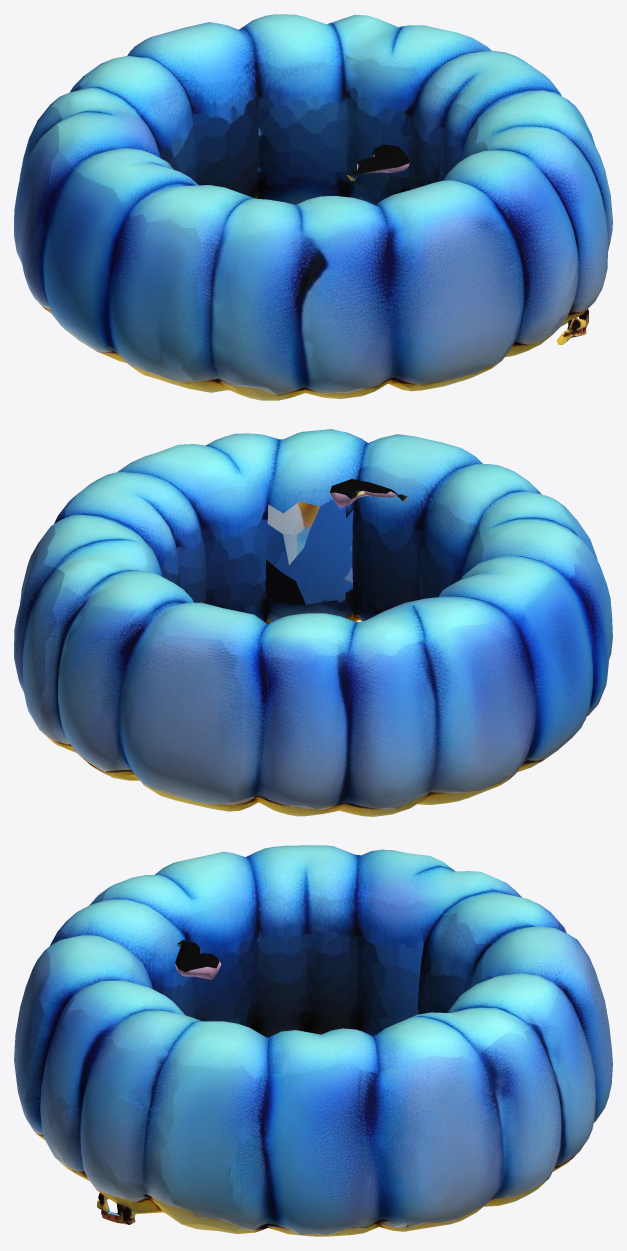
File: cat_bed.glb
The picture shows the model from 3 angles, top to bottom: view 1: azimuth 30°, elevation 25°; view 2: azimuth 150°, elevation 25°; view 3: azimuth 270°, elevation 25°; orthographic projection.
Visible parts, largest first — view 1: cat_bed; view 2: cat_bed; view 3: cat_bed.
Part boxes in pixels (x1,y1,x2,y2): cat_bed: (14,14,612,400); cat_bed: (14,429,612,816); cat_bed: (14,845,612,1236).
Bounding box in the file's own units: 0.9981 × 0.3527 × 1.
1 material, 1 textured.
